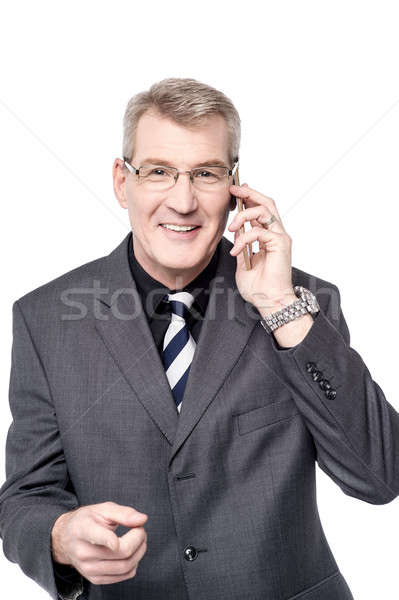phone: (229, 178, 285, 277)
talk: (132, 151, 308, 294)
